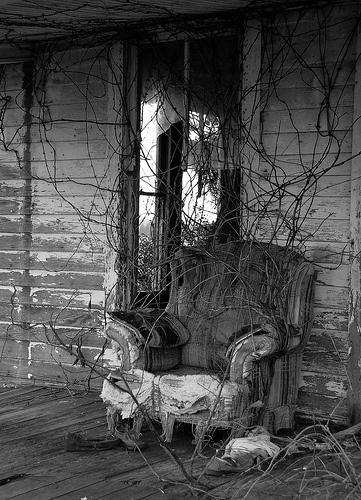chair: (102, 238, 317, 450)
